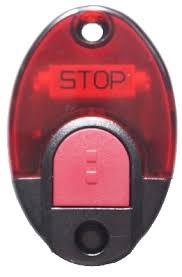bell: (10, 5, 177, 266)
